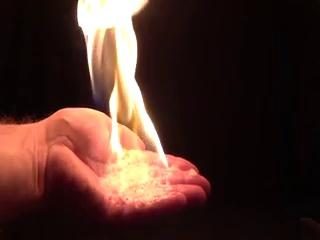Fire: (82, 1, 165, 179)
